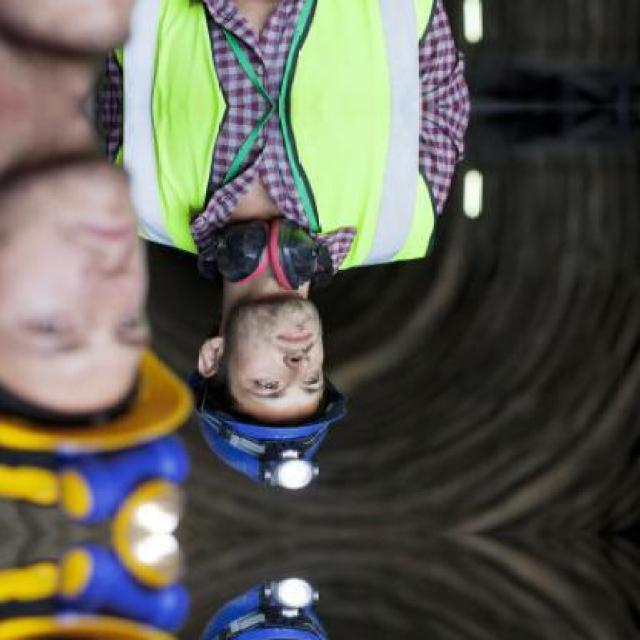safetyhelmet: (192, 326, 346, 490)
